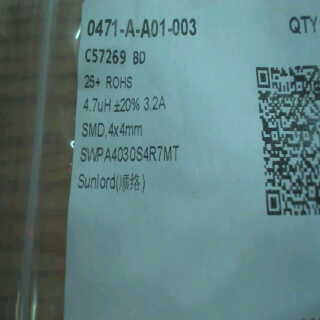4.7uH: (81, 93, 114, 115)
